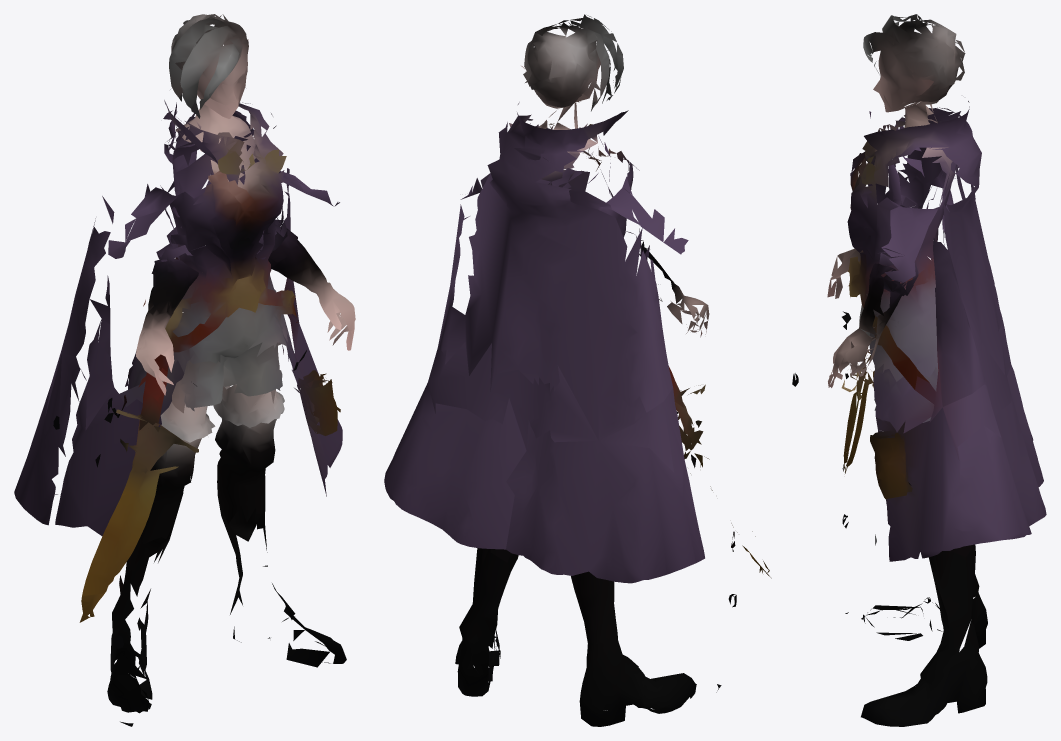
The model's file is saffi.glb.
3 views of the same model, side by side, from view 1: azimuth 30°, elevation 25°; view 2: azimuth 150°, elevation 25°; view 3: azimuth 270°, elevation 25° (orthographic).
Visible parts, largest first — view 1: torso, thighL, thighR, hips, head, shinL, foreL, armL, foreR, shinR; view 2: torso, thighL, thighR, hips, shinL, head, shinR, foreL, armL; view 3: torso, thighR, shinR, head, hips, foreR, armL, thighL, shinL, armR, foreL.
Boxes of the visible parts, bbox=[...] form: torso: bbox=[61, 87, 339, 375]; thighL: bbox=[14, 354, 215, 596]; thighR: bbox=[213, 324, 342, 523]; hips: bbox=[45, 314, 303, 432]; head: bbox=[169, 14, 248, 109]; shinL: bbox=[79, 525, 173, 726]; foreL: bbox=[136, 217, 204, 395]; armL: bbox=[164, 102, 244, 244]; foreR: bbox=[257, 219, 355, 370]; shinR: bbox=[218, 491, 346, 667]; torso: bbox=[437, 93, 688, 440]; thighL: bbox=[506, 390, 755, 583]; thighR: bbox=[384, 382, 526, 564]; hips: bbox=[428, 342, 798, 472]; shinL: bbox=[571, 541, 771, 726]; head: bbox=[521, 14, 623, 108]; shinR: bbox=[455, 548, 517, 696]; foreL: bbox=[625, 231, 709, 337]; armL: bbox=[514, 123, 613, 197]; torso: bbox=[847, 94, 1004, 406]; thighR: bbox=[870, 395, 1046, 579]; shinR: bbox=[861, 546, 987, 726]; head: bbox=[863, 14, 965, 111]; hips: bbox=[867, 324, 1011, 460]; foreR: bbox=[828, 247, 921, 387]; armL: bbox=[862, 108, 960, 229]; thighL: bbox=[841, 351, 1043, 487]; shinL: bbox=[842, 449, 987, 648]; armR: bbox=[865, 147, 959, 251]; foreL: bbox=[827, 197, 944, 329].
Size of the model in its own units: 0.5455 by 0.9993 by 0.3043.
